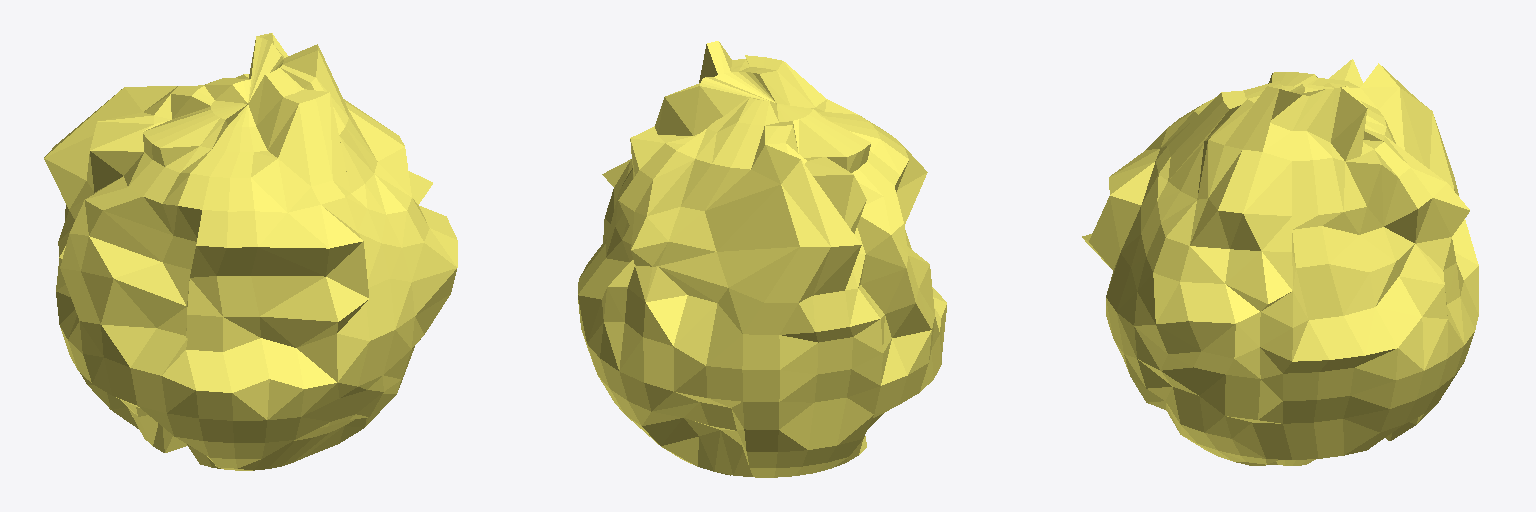
3 renders of one model, left to right at view 1: azimuth 30°, elevation 25°; view 2: azimuth 150°, elevation 25°; view 3: azimuth 270°, elevation 25°, orthographic.
Parts seen in each view (by area): view 1: Cube; view 2: Cube; view 3: Cube.
Part boxes in pixels (x1,y1,x2,y2): Cube: (44,33,457,470); Cube: (578,41,946,477); Cube: (1082,59,1478,465).
Bounding box in the file's own units: 2.09 × 2.29 × 2.09.
1 materials, 1 textured.